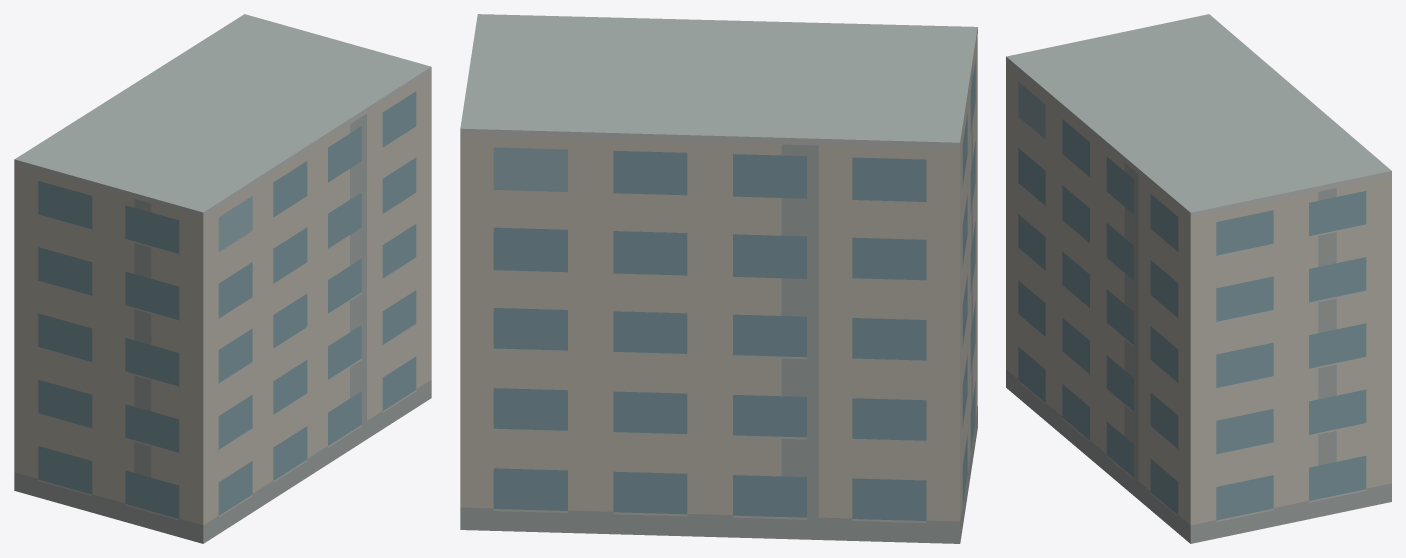
The model's file is survey-upis-32906551.glb.
The picture shows the model from 3 angles, left to right: view 1: azimuth 30°, elevation 25°; view 2: azimuth 150°, elevation 25°; view 3: azimuth 270°, elevation 25°; orthographic projection. The views are drawn at different scales.
Visible parts, largest first — view 1: survey-upis-32906551.tmp; view 2: survey-upis-32906551.tmp; view 3: survey-upis-32906551.tmp.
Part boxes in pixels (x1,y1,x2,y2): survey-upis-32906551.tmp: [14, 14, 431, 543]; survey-upis-32906551.tmp: [460, 14, 977, 543]; survey-upis-32906551.tmp: [1006, 14, 1391, 543].
Size of the model in its own units: 18.55 by 14.4 by 15.21.
